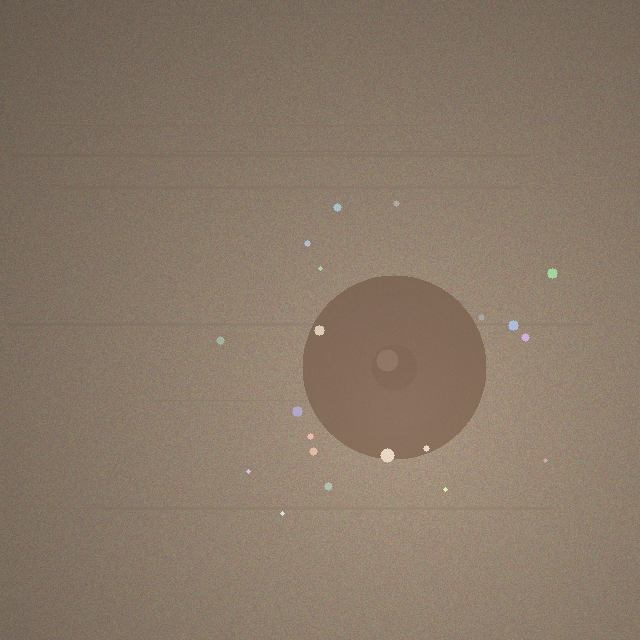overburn: (302, 275, 486, 459)
